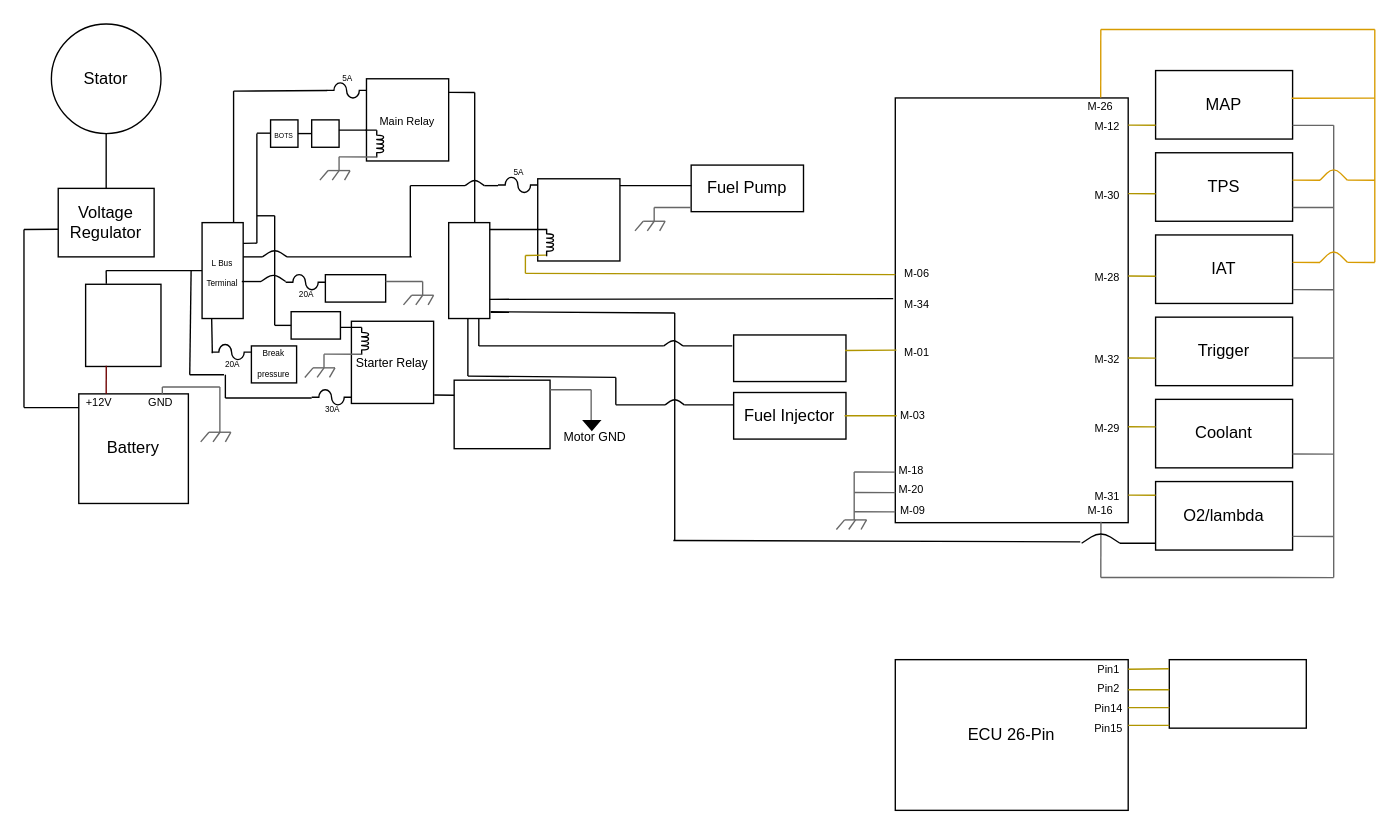
This 1400x834 diagram has some shape labels left out. Here are the shapes that lost their labels. From the top down, the centre of each, then its label:
At point 324,133: "E-Stop".
At point 578,219: "Pump Relay".
At point 355,287: "Transponder".
At point 468,270: "R Bus Terminal".
At point 122,324: "Main Switch".
At point 315,324: "Starter Button".
At point 789,358: "Ignition Coil".
At point 501,414: "Starter Motor".
At point 1237,693: "Ethernet".
